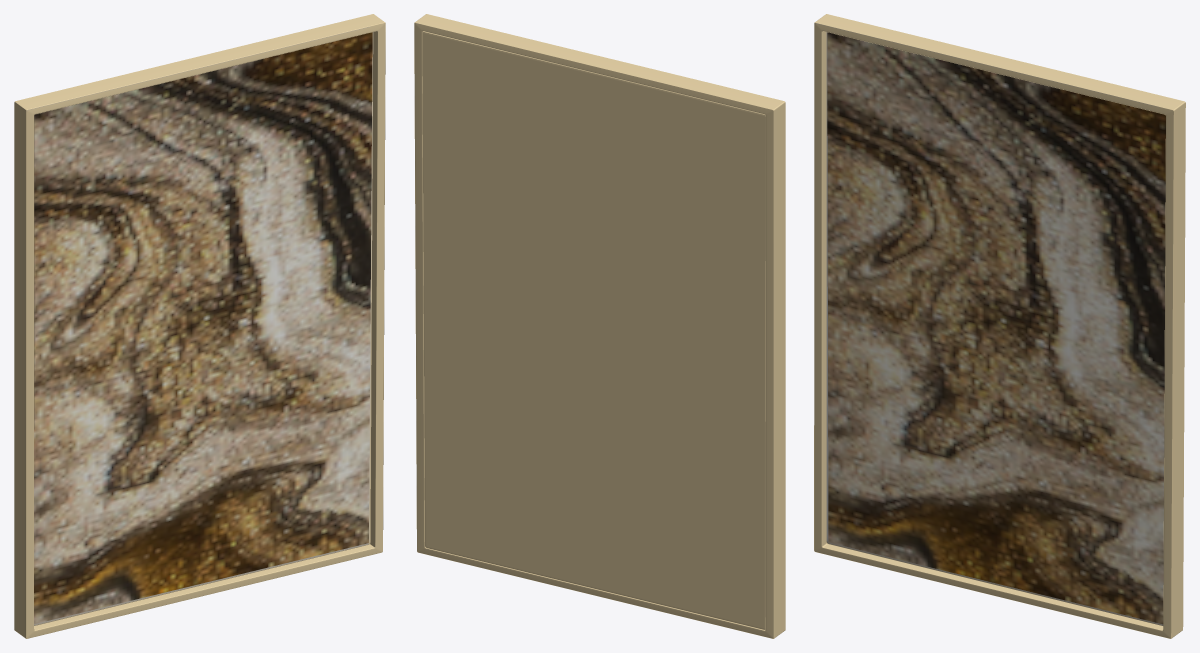
The model's file is MEGA_PACK_Painting__painting-503147_50_70_cm.glb.
3 views of the same model, side by side, from view 1: azimuth 30°, elevation 25°; view 2: azimuth 150°, elevation 25°; view 3: azimuth 330°, elevation 25° (orthographic).
Parts seen in each view (by area): view 1: painting-503147_50_70_cm; view 2: painting-503147_50_70_cm; view 3: painting-503147_50_70_cm.
Part boxes in pixels (x1,y1,x2,y2): painting-503147_50_70_cm: (14,14,385,638); painting-503147_50_70_cm: (414,14,785,638); painting-503147_50_70_cm: (814,14,1185,638).
Size of the model in its own units: 0.4983 by 0.7005 by 0.0292.
Materials: 2 (2 with a texture image).
